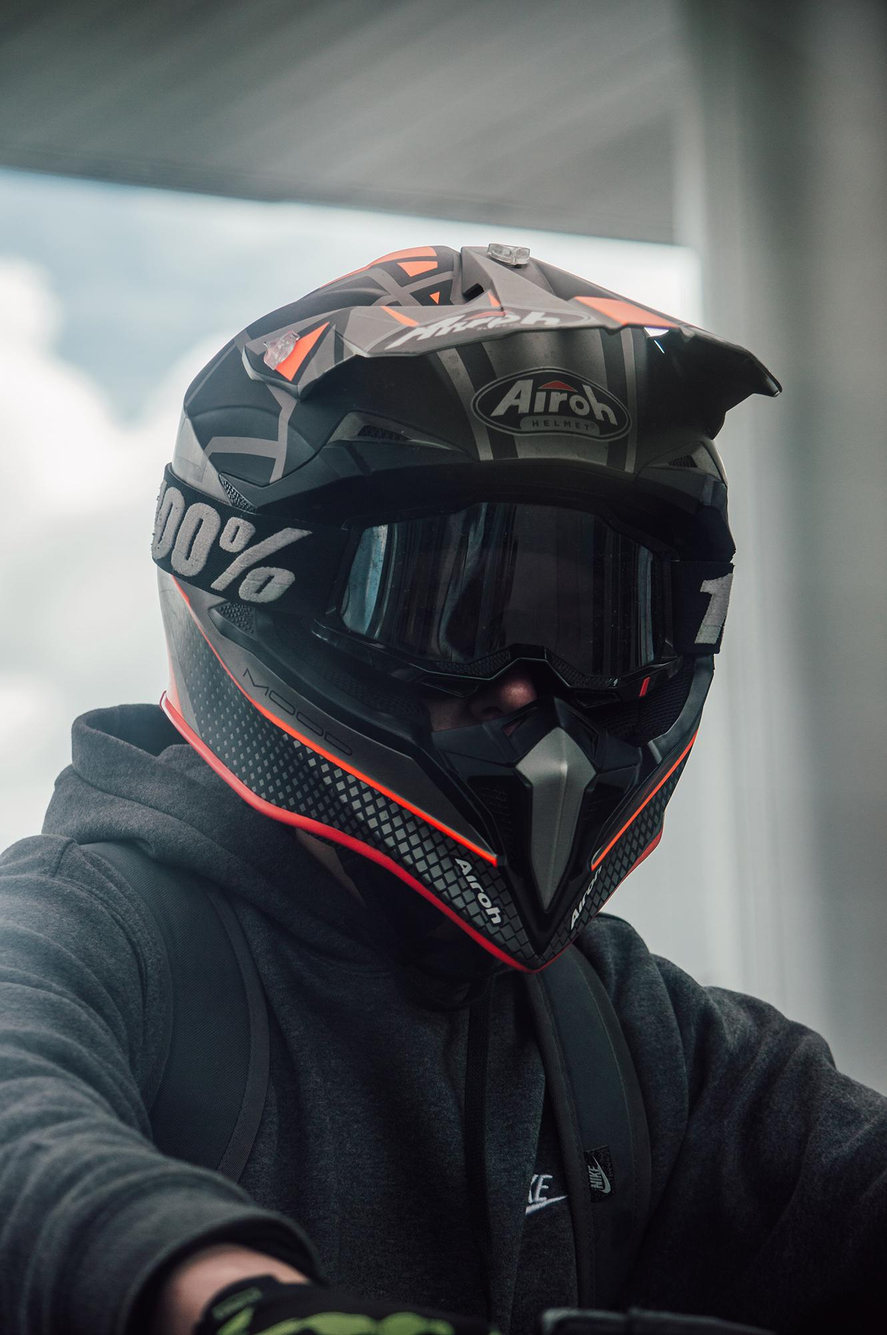helmet: (147, 238, 788, 982)
